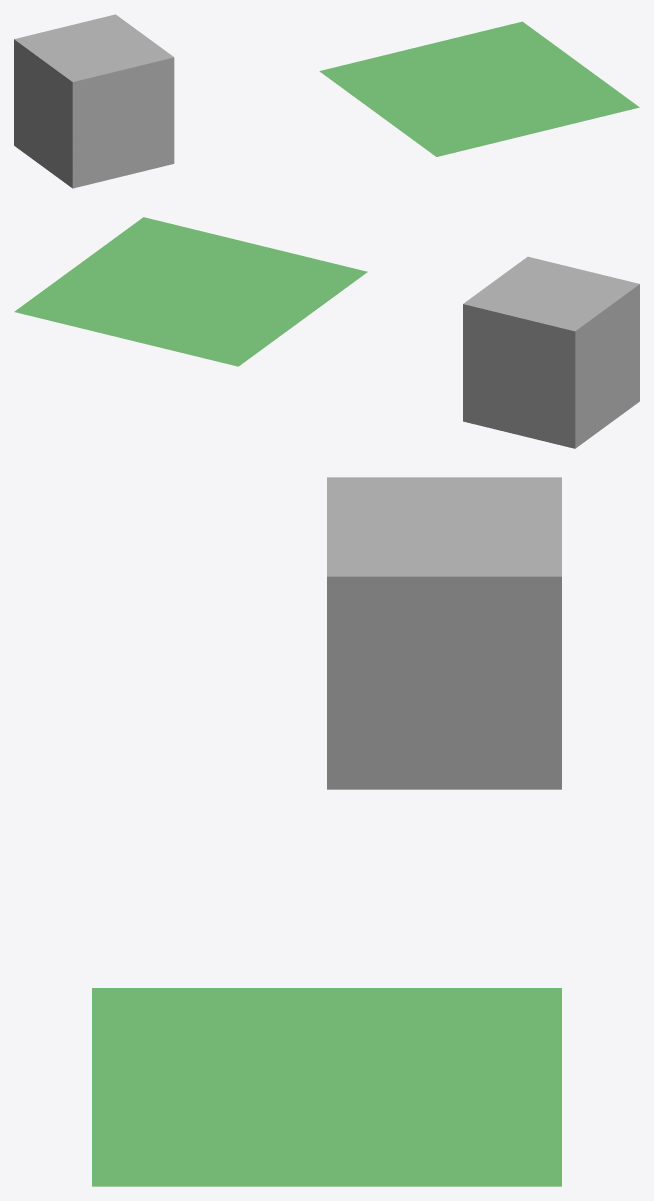
File: two-pieces.gltf
3 views of the same model, one above another, from view 1: azimuth 30°, elevation 25°; view 2: azimuth 150°, elevation 25°; view 3: azimuth 270°, elevation 25° (orthographic). The views are drawn at different scales.
Visible parts, largest first — view 1: Floor, Block; view 2: Floor, Block; view 3: Floor, Block.
Boxes of the visible parts, x1,y1,x2,y2 form: Floor: [319, 21, 639, 156]; Block: [14, 14, 174, 188]; Floor: [14, 217, 367, 366]; Block: [463, 256, 639, 448]; Floor: [92, 988, 561, 1186]; Block: [327, 477, 561, 789].
Size of the model in its own units: 5 by 1 by 2.
